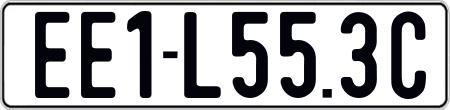1: (125, 8, 150, 96)
3: (339, 9, 378, 96)
5: (278, 11, 317, 103), (230, 11, 268, 98)
C: (390, 9, 430, 99)
E: (32, 9, 69, 97), (81, 11, 116, 99)
L: (184, 12, 221, 100)
